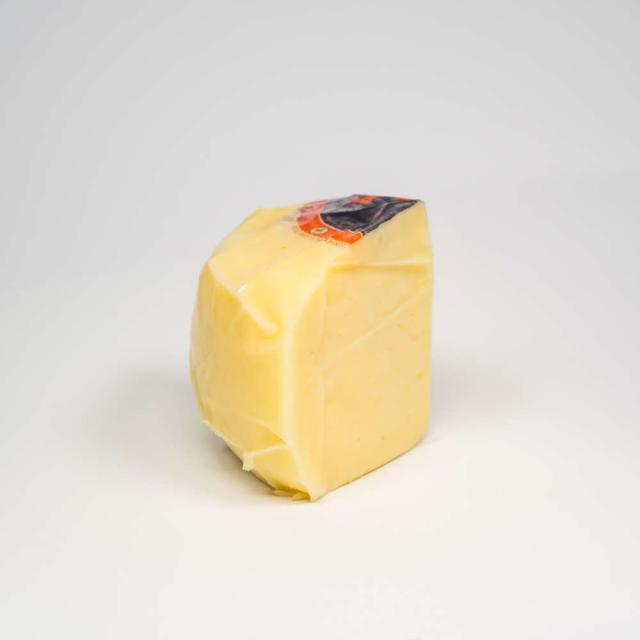Cheese: (183, 186, 439, 506)
